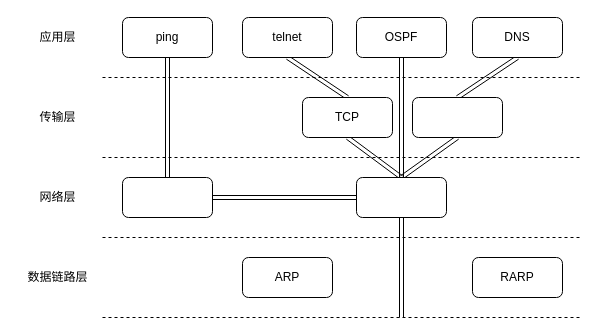
This 601x336 diagram has some shape labels left out. The box of each missing label's shape, as (x1, y1, x2, y2) in pixels:
ICMP: (122, 176, 212, 218)
IP: (356, 176, 446, 218)
UDP: (412, 96, 502, 138)
